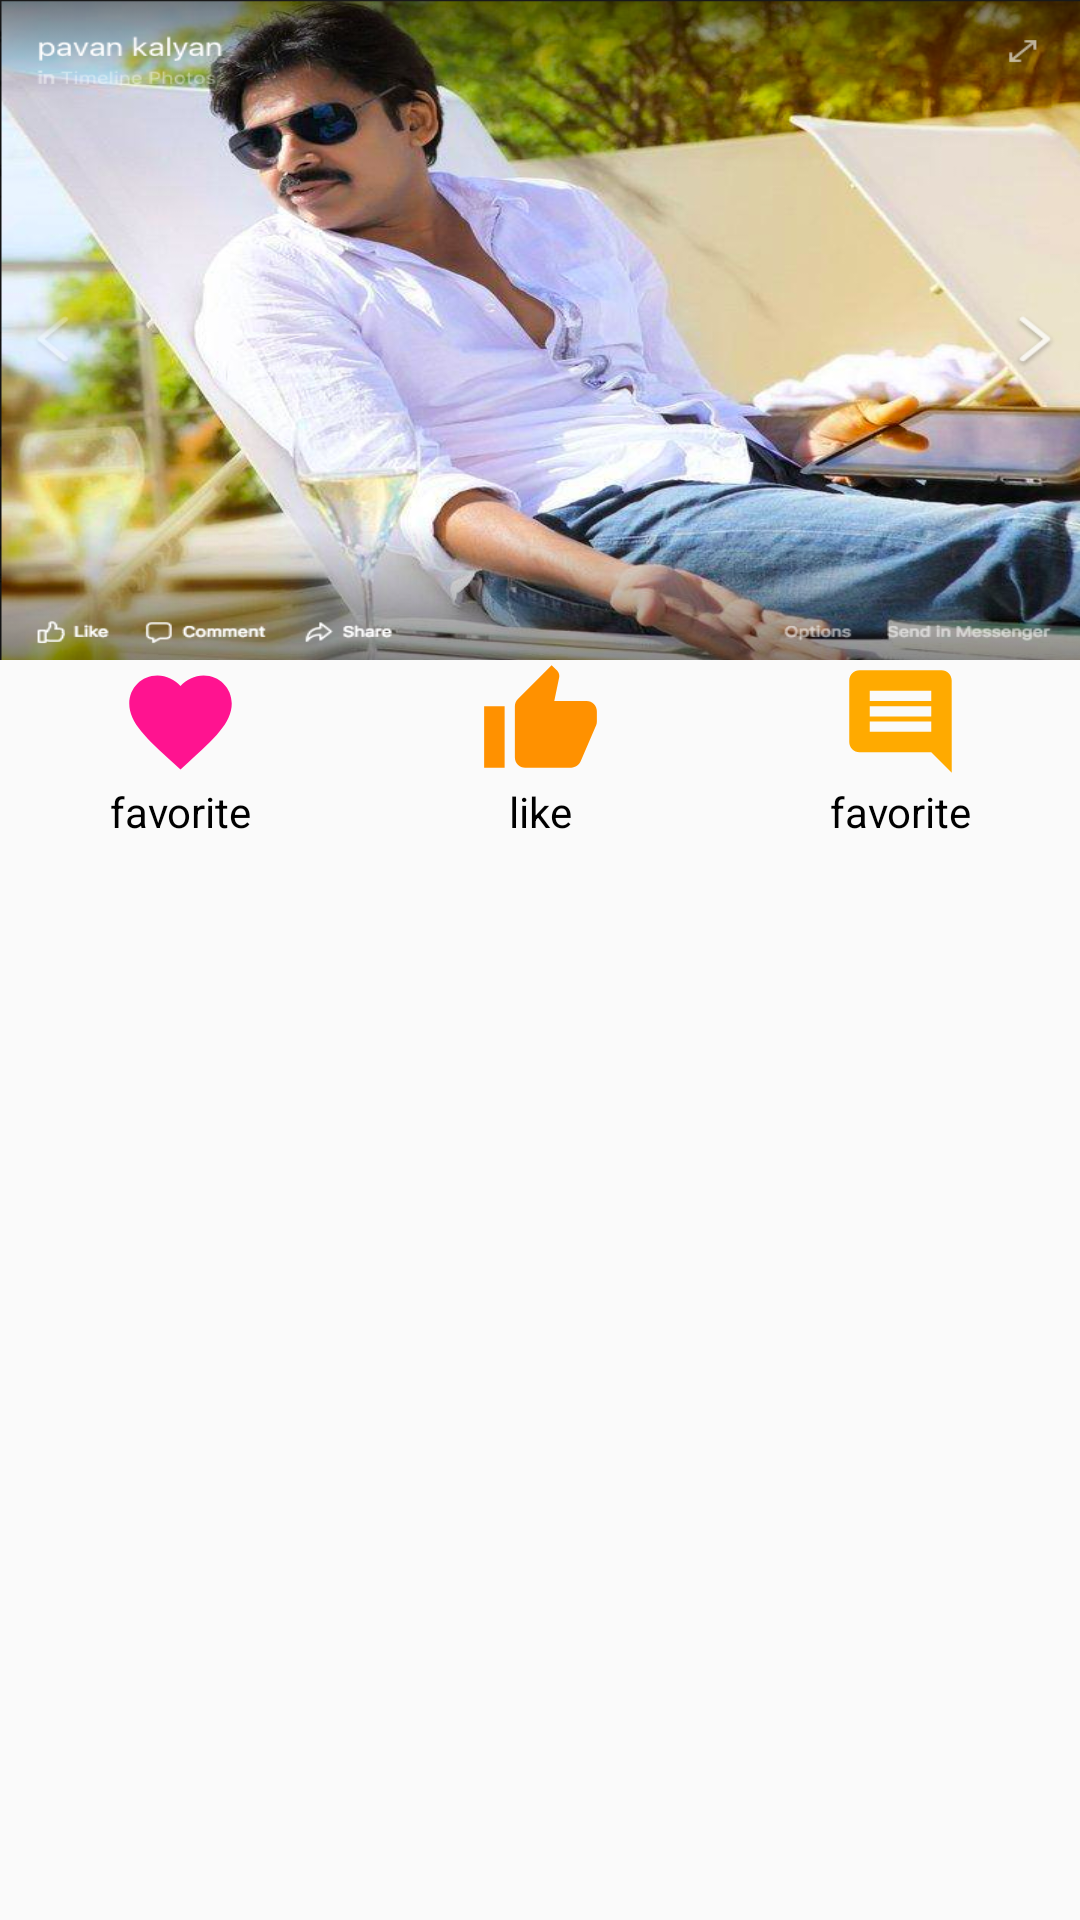

Locate icon controls on the screen. Image size 1080 × 1920, boxes as (x1, y1, x2, y2).
comment: (849, 670, 952, 773)
